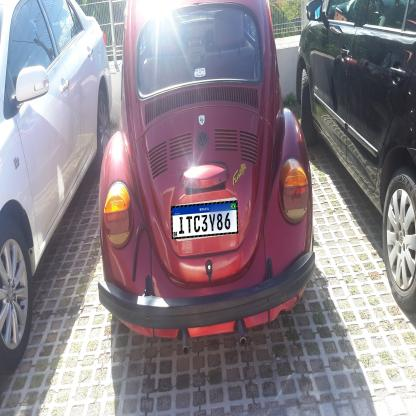PlacaM: (171, 200, 238, 240)
